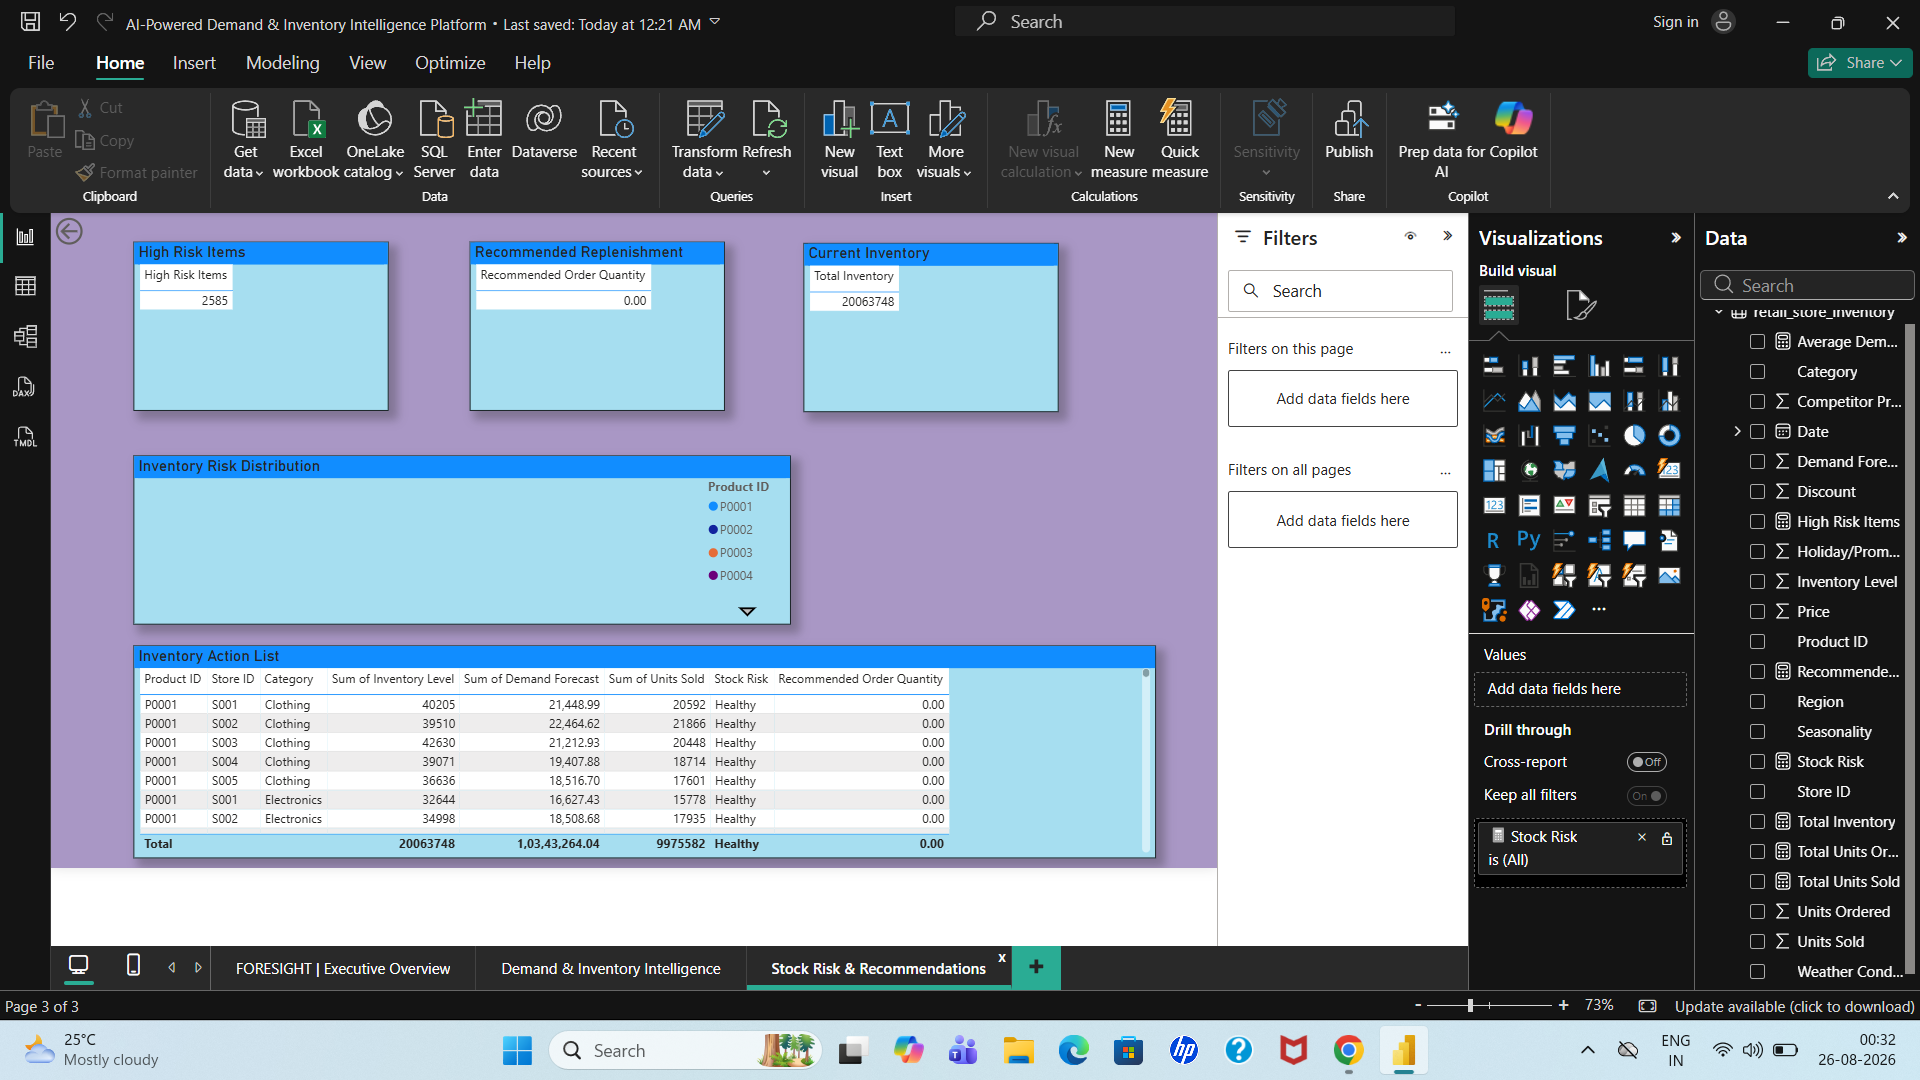

This screenshot's page, from the dashboard's own definition file:
{"tool":"powerbi","page":{"name":"Stock Risk & Recommendations","canvas":[1280,720],"ordinal":2},"visuals":[{"type":"tableEx","title":"High Risk Items","fields":{"Values":["retail_store_inventory.High Risk Items"]},"box":[90.6,31.6,279.9,185.2],"z":1},{"type":"tableEx","title":"Recommended Replenishment","fields":{"Values":["retail_store_inventory.Recommended Order Quantity"]},"box":[459.7,31.6,279.9,185.2],"z":2},{"type":"tableEx","title":"Current Inventory","fields":{"Values":["retail_store_inventory.Total Inventory"]},"box":[826.1,32.9,279.9,185.2],"z":3},{"type":"donutChart","title":"Inventory Risk Distribution","fields":{"Category":["retail_store_inventory.Product ID"]},"box":[90.6,266.2,721.8,185.2],"z":4},{"type":"tableEx","title":"Inventory Action List","fields":{"Values":["retail_store_inventory.Product ID","retail_store_inventory.Store ID","retail_store_inventory.Category","Sum(retail_store_inventory.Inventory Level)","Sum(retail_store_inventory.Demand Forecast)","Sum(retail_store_inventory.Units Sold)","retail_store_inventory.Stock Risk","retail_store_inventory.Recommended Order Quantity"]},"box":[90.6,474.8,1122.5,233.3],"z":5},{"type":"actionButton","box":[0,0,100,40],"z":6}]}

Visuals, with their boxes on the page's 1280x720 design canvas (x1, y1, x2, y2). These are canvas units, not pixel positions in the 1920x1080 screenshot, which may show the page scaled, cropped or inside an application window:
"High Risk Items" tableEx: x1=91 y1=32 x2=370 y2=217
"Recommended Replenishment" tableEx: x1=460 y1=32 x2=740 y2=217
"Current Inventory" tableEx: x1=826 y1=33 x2=1106 y2=218
"Inventory Risk Distribution" donutChart: x1=91 y1=266 x2=812 y2=451
"Inventory Action List" tableEx: x1=91 y1=475 x2=1213 y2=708
actionButton: x1=0 y1=0 x2=100 y2=40
